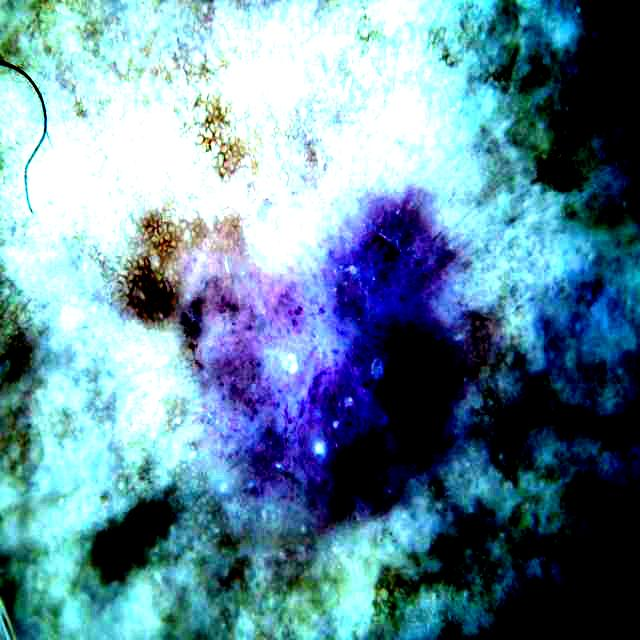BCC: (176, 131, 464, 511)
